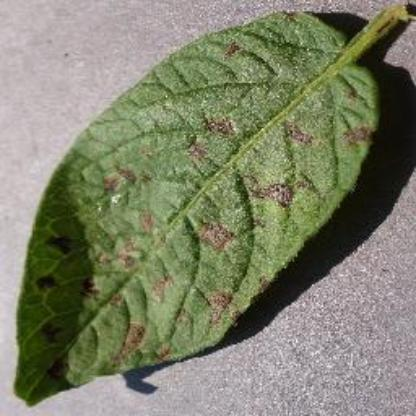Early-Blight: (15, 6, 409, 402)
